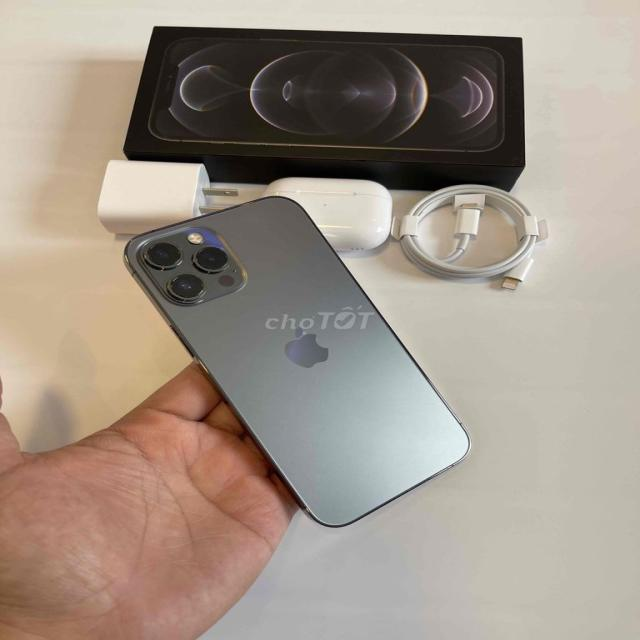gen_12_13: (120, 194, 475, 528)
